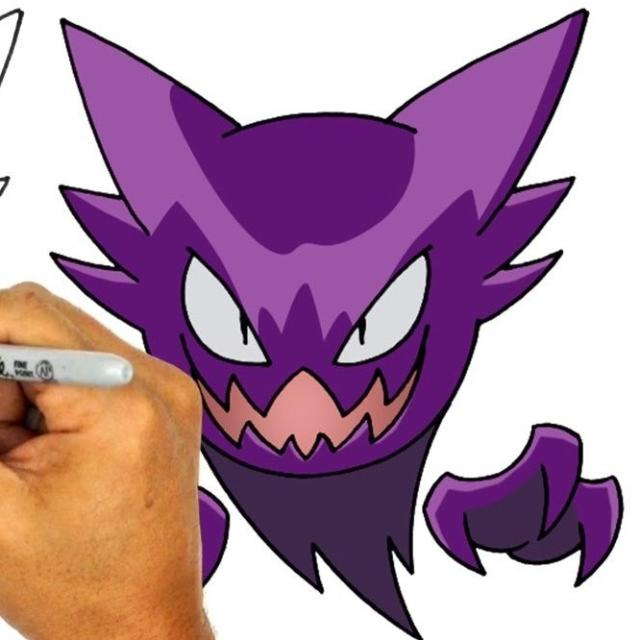Haunter: (61, 0, 598, 571)
